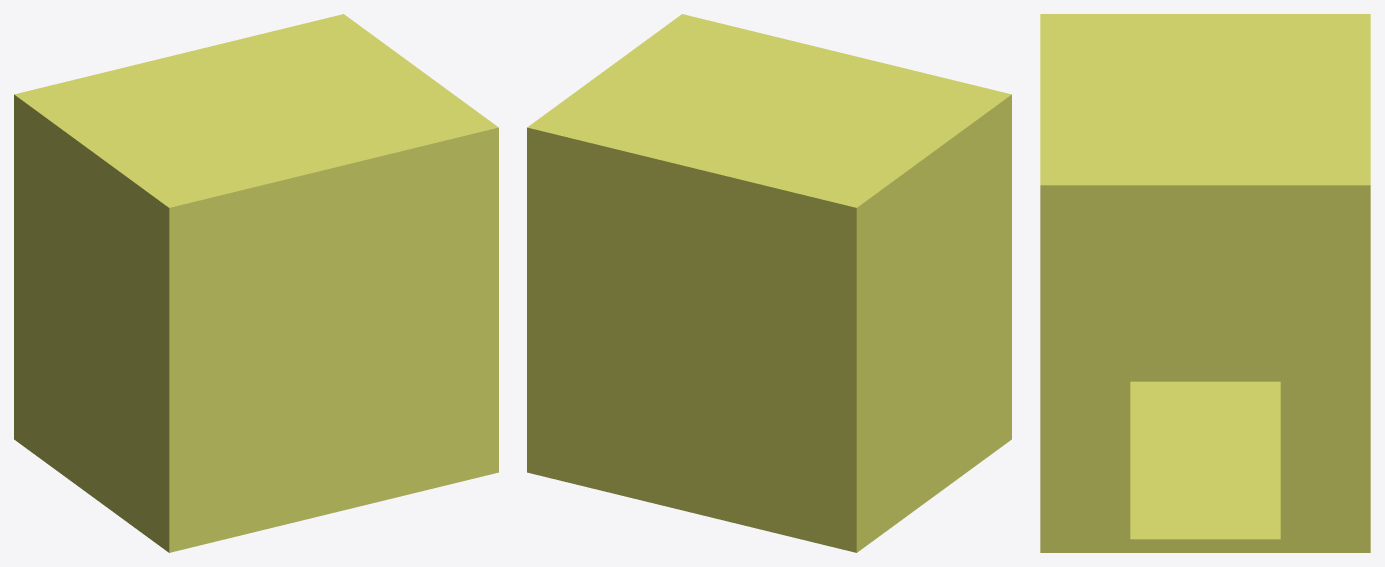
The model's file is elevator_prop.gltf.
3 renders of one model, left to right at view 1: azimuth 30°, elevation 25°; view 2: azimuth 150°, elevation 25°; view 3: azimuth 270°, elevation 25°, orthographic. The views are drawn at different scales.
Parts seen in each view (by area): view 1: Cube; view 2: Cube; view 3: Cube.
Boxes of the visible parts, x1,y1,x2,y2 form: Cube: (14,14,498,552); Cube: (527,14,1011,552); Cube: (1040,14,1370,552).
Size of the model in its own units: 2.7 by 2.7 by 2.2.
